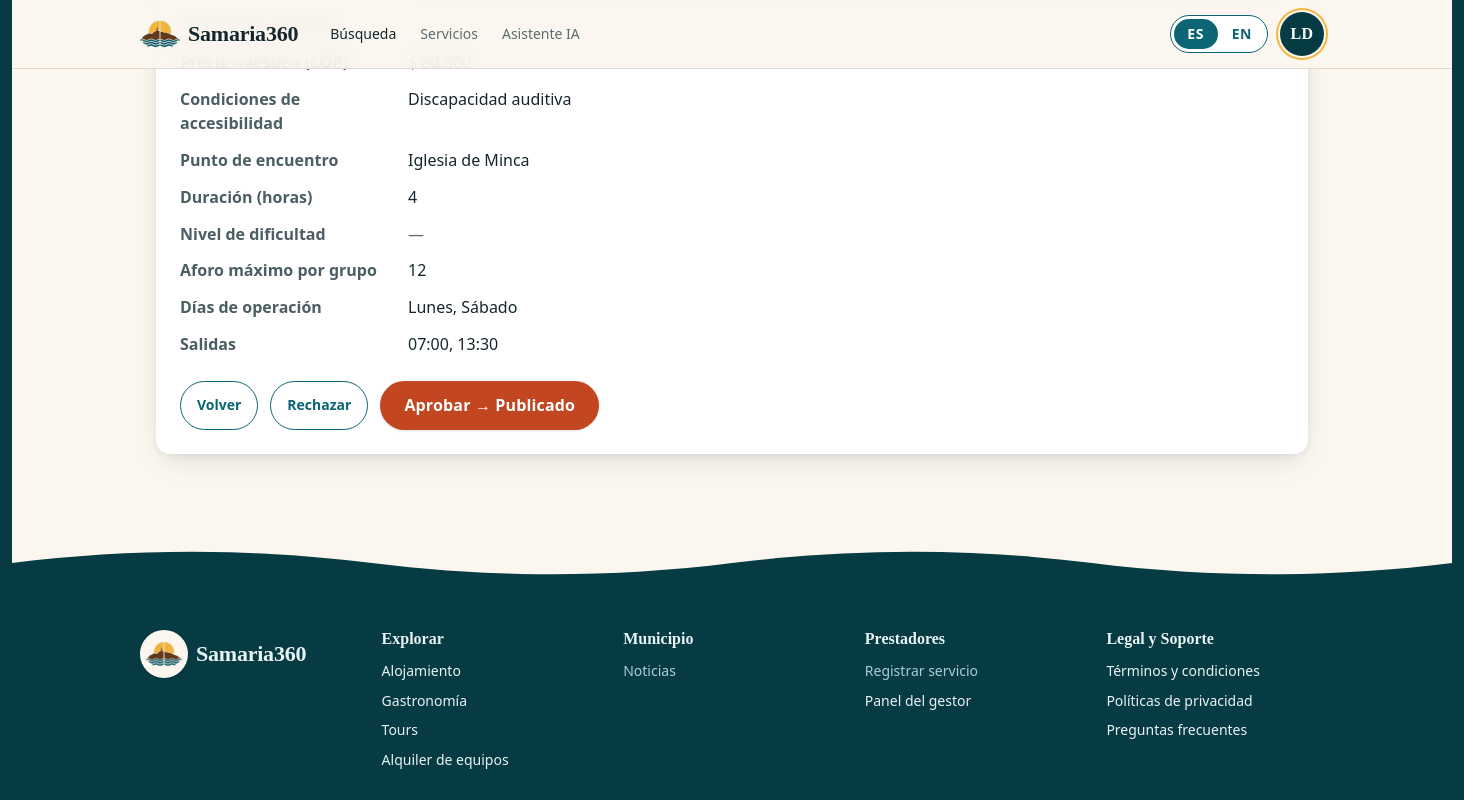
it: Aprobar (DEC-177) › un error de red se muestra en la revisión, que sigue ahí, y se puede volver a intentar
(page scrolled)
Click the button "Aprobar → Publicado": (490, 405) [380,381,599,430]
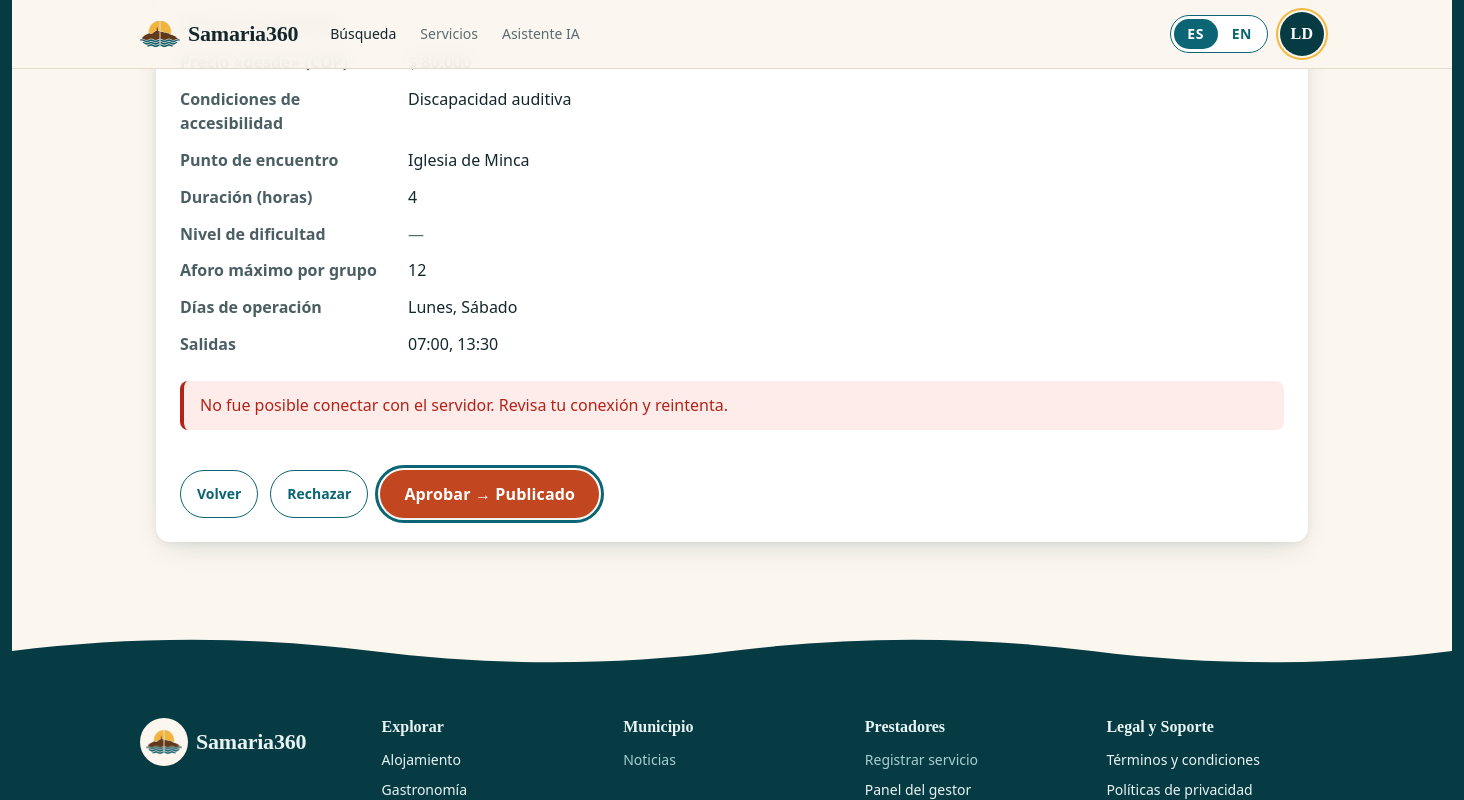
expect the message shows "No fue posible conectar con el servidor.": met, box [200,394,728,416]
Click the button "Aprobar → Publicado": (490, 494) [380,470,599,518]
(page scrolled)
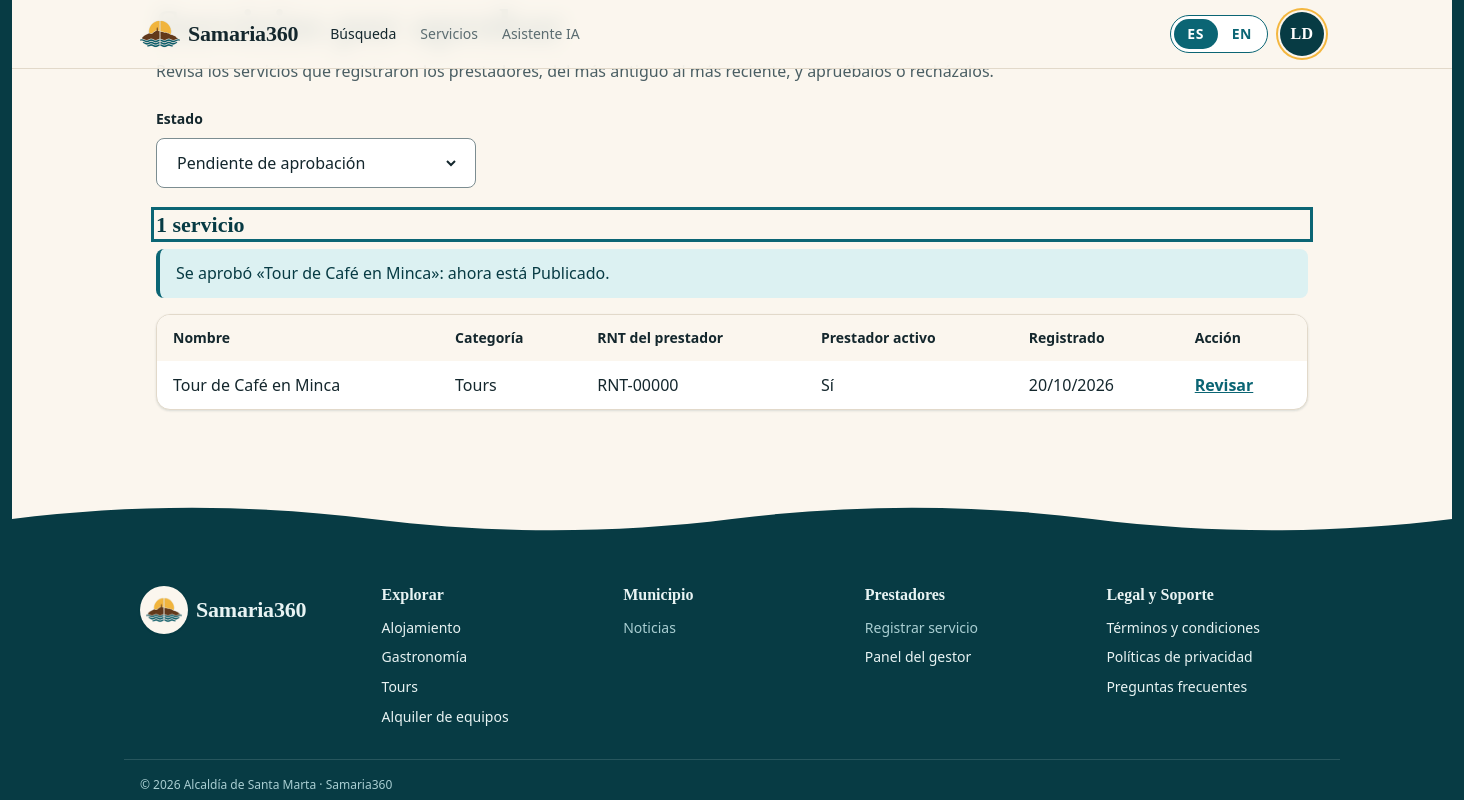
expect the text "Se aprobó «Tour de Café en Minca»: ahora está Publicado." is shown once: met, box [156,249,1308,298]
